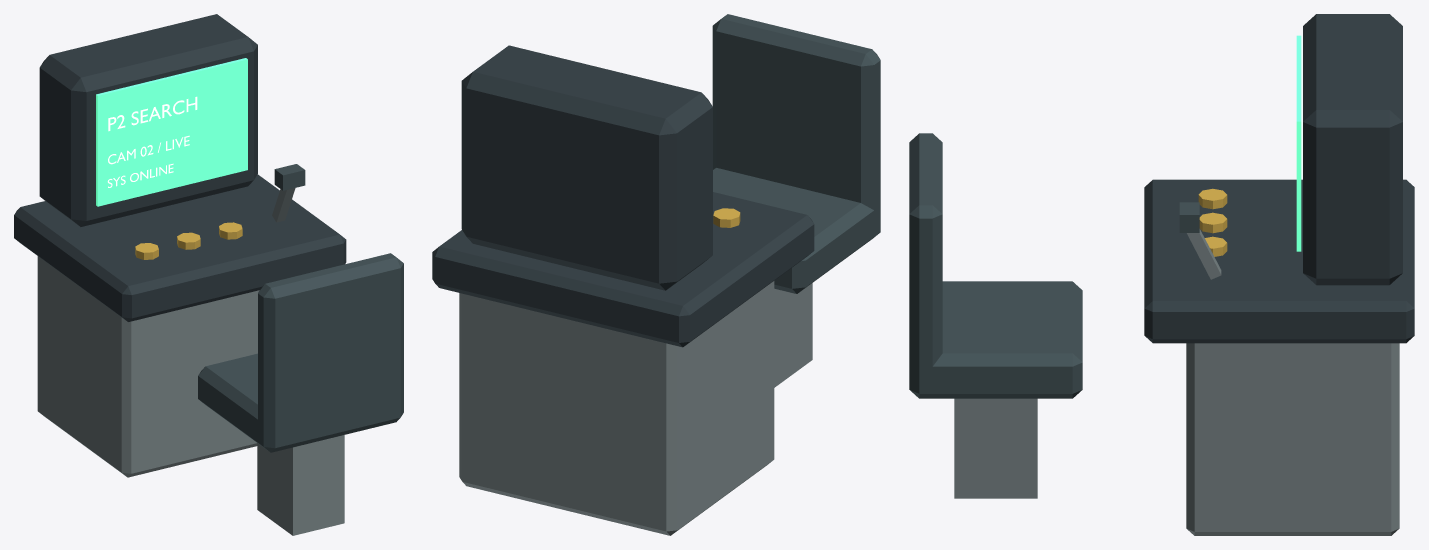
File: DeadRail_Search_Control.fbx
3 renders of one model, left to right at view 1: azimuth 30°, elevation 25°; view 2: azimuth 150°, elevation 25°; view 3: azimuth 270°, elevation 25°, orthographic. The views are drawn at different scales.
Visible parts, largest first — view 1: Console_Base.002, Console_Desk.002, Seat_Back.002, CRT_Housing.002, P2_CameraFeed_Screen, Operator_Seat.002, Seat_Pedestal.002, Lever_Grip.002, CRT_Title.002, Lever.002; view 2: Console_Base.002, CRT_Housing.002, Seat_Back.002, Console_Desk.002, Operator_Seat.002, Seat_Pedestal.002; view 3: Console_Base.002, Console_Desk.002, CRT_Housing.002, Operator_Seat.002, Seat_Pedestal.002, Seat_Back.002, P2_CameraFeed_Screen, Lever.002, Lever_Grip.002.
Part boxes in pixels (x1,y1,x2,y2): Console_Base.002: (37, 256, 259, 477); Console_Desk.002: (14, 174, 346, 321); Seat_Back.002: (258, 253, 403, 424); CRT_Housing.002: (39, 14, 257, 226); P2_CameraFeed_Screen: (96, 58, 247, 206); Operator_Seat.002: (198, 353, 403, 452); Seat_Pedestal.002: (257, 435, 344, 535); Lever_Grip.002: (274, 164, 305, 190); CRT_Title.002: (108, 96, 197, 131); Lever.002: (272, 188, 295, 222); Console_Base.002: (459, 281, 774, 535); CRT_Housing.002: (461, 45, 712, 290); Seat_Back.002: (712, 14, 880, 210); Console_Desk.002: (432, 192, 814, 347); Operator_Seat.002: (713, 168, 880, 293); Seat_Pedestal.002: (774, 283, 812, 387); Console_Base.002: (1186, 343, 1399, 535); Console_Desk.002: (1144, 179, 1414, 343); CRT_Housing.002: (1303, 14, 1402, 285); Operator_Seat.002: (909, 281, 1082, 398); Seat_Pedestal.002: (954, 398, 1037, 498); Seat_Back.002: (909, 133, 942, 366); P2_CameraFeed_Screen: (1296, 35, 1301, 251); Lever.002: (1187, 229, 1221, 279); Lever_Grip.002: (1179, 202, 1199, 232).
Size of the model in its own units: 0.91 by 1.4 by 1.52.
